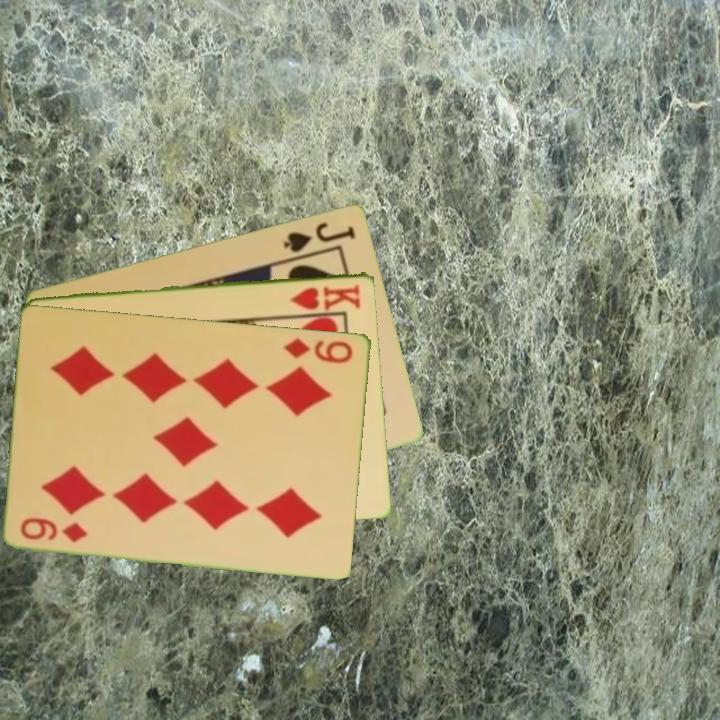9d: (280, 333, 356, 366), (17, 514, 90, 545)
Js: (280, 218, 359, 255)
Kh: (287, 280, 364, 312)
